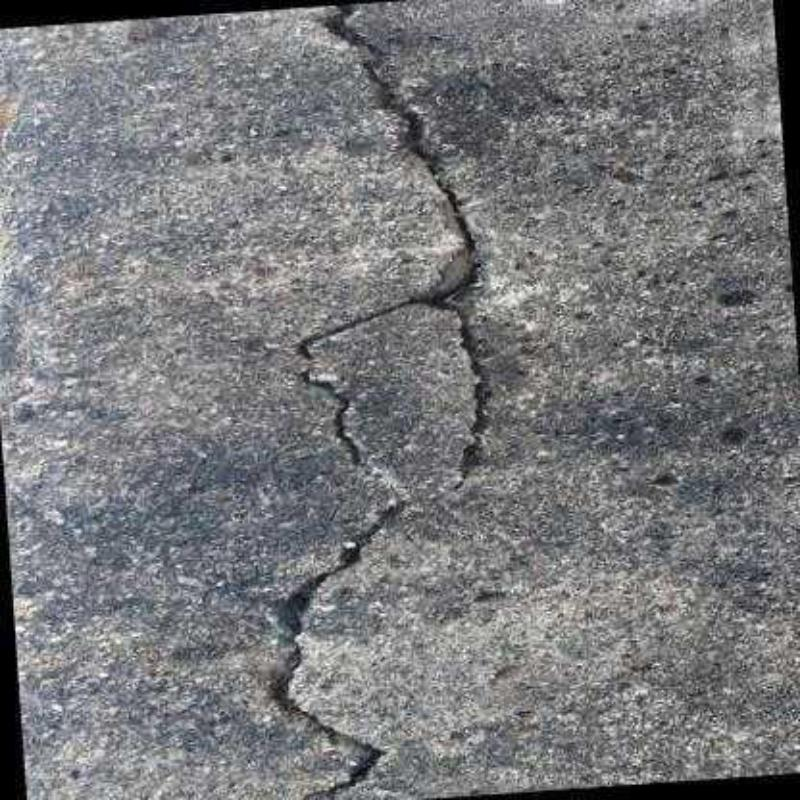pothole: (300, 0, 488, 496), (279, 492, 406, 798), (302, 371, 367, 465)
